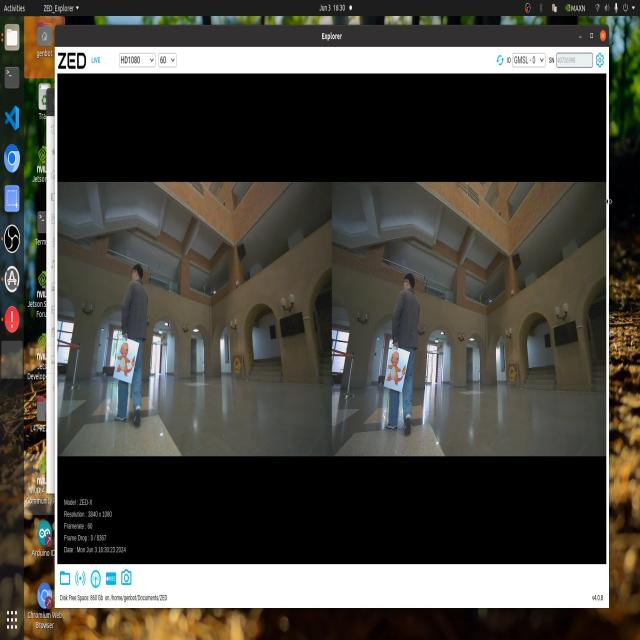red: (388, 344, 409, 392), (119, 344, 132, 382)
